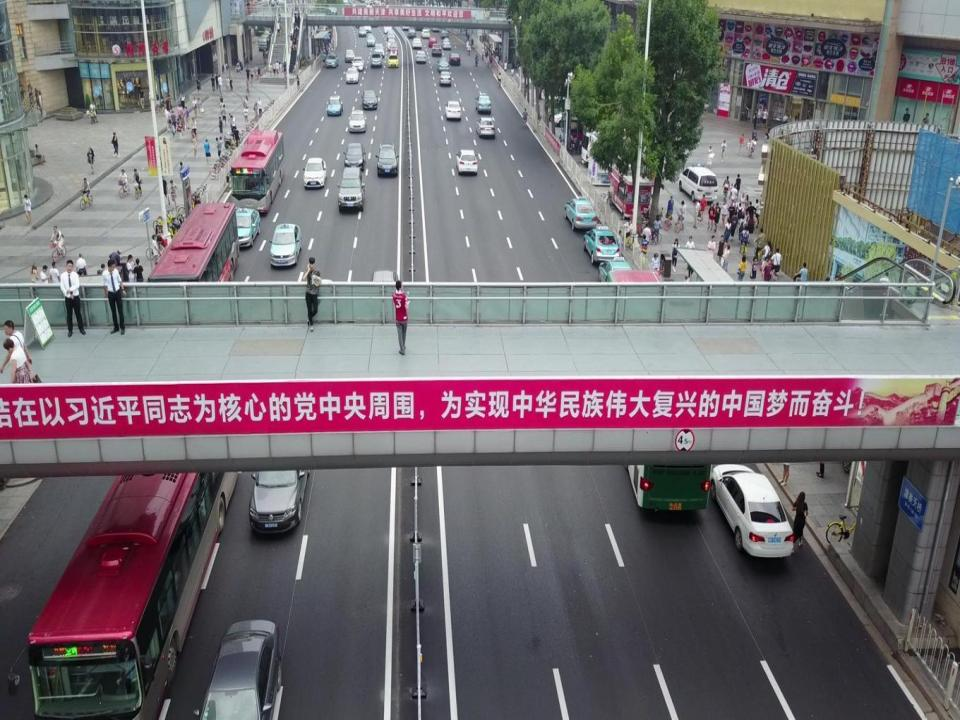bus: (8, 396, 246, 720), (601, 271, 711, 514), (151, 204, 239, 306), (710, 461, 794, 561), (231, 130, 285, 216)
car: (193, 618, 278, 719), (250, 440, 314, 534), (268, 224, 302, 267), (584, 226, 620, 262), (229, 208, 260, 249), (338, 166, 366, 210), (564, 194, 597, 231), (599, 257, 635, 285), (376, 142, 400, 176), (303, 157, 327, 188), (342, 144, 366, 172), (456, 148, 479, 174), (347, 109, 368, 135), (477, 117, 497, 137), (476, 90, 493, 112), (327, 94, 343, 117), (362, 90, 378, 110), (446, 100, 462, 120), (344, 68, 358, 84), (352, 56, 365, 72), (370, 52, 383, 68), (437, 56, 450, 72), (325, 54, 339, 68), (381, 20, 393, 34), (449, 53, 462, 65), (344, 47, 355, 61), (387, 54, 399, 66), (431, 44, 443, 56), (366, 33, 376, 47), (374, 44, 385, 56), (415, 51, 426, 63), (440, 72, 451, 84), (385, 30, 395, 42), (359, 26, 368, 38), (390, 42, 398, 55), (399, 19, 409, 29), (406, 28, 416, 38), (421, 29, 431, 39), (364, 20, 372, 32), (443, 38, 451, 50), (413, 39, 422, 49), (429, 37, 438, 47), (388, 38, 394, 50)
van: (680, 164, 718, 200)
